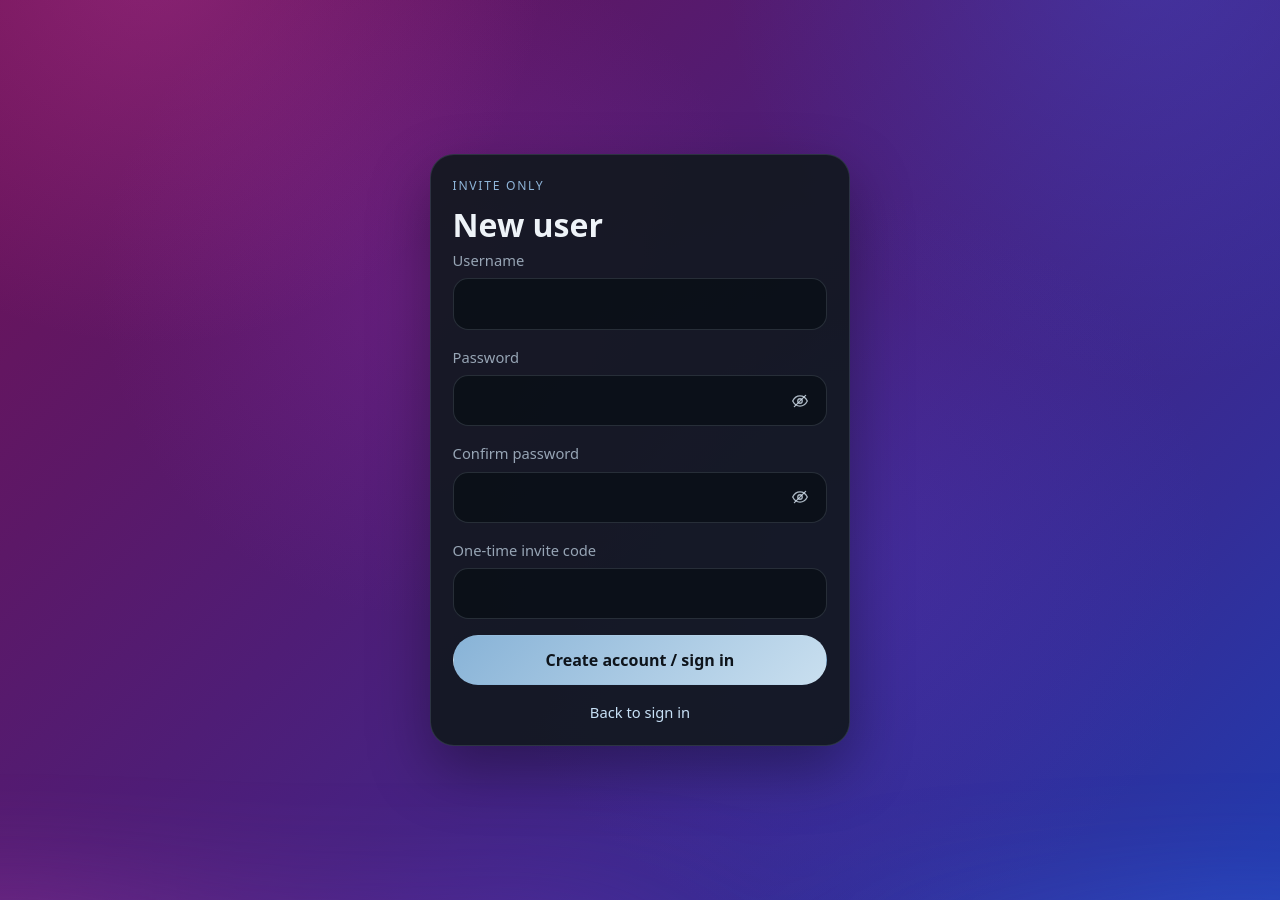
Scenario: NewUserPage invite code privacy › failed signup clears passwords but keeps the invite code in component state
In the field labelled "Username": {"x": 640, "y": 304} x1=453 y1=278 x2=827 y2=330, type "viewer"
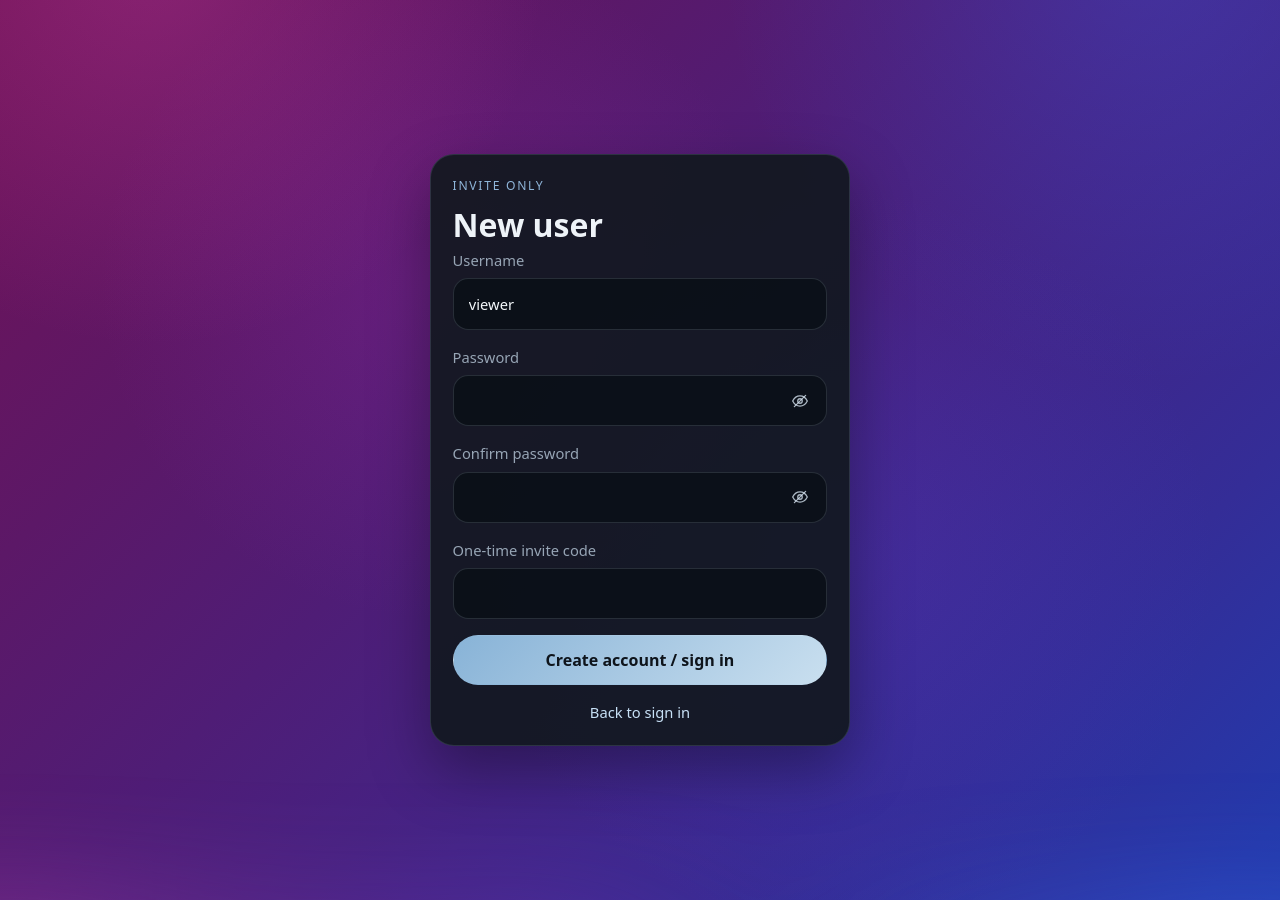
In the password field labelled "Password": {"x": 640, "y": 401} x1=453 y1=375 x2=827 y2=426, type "primary-secret"
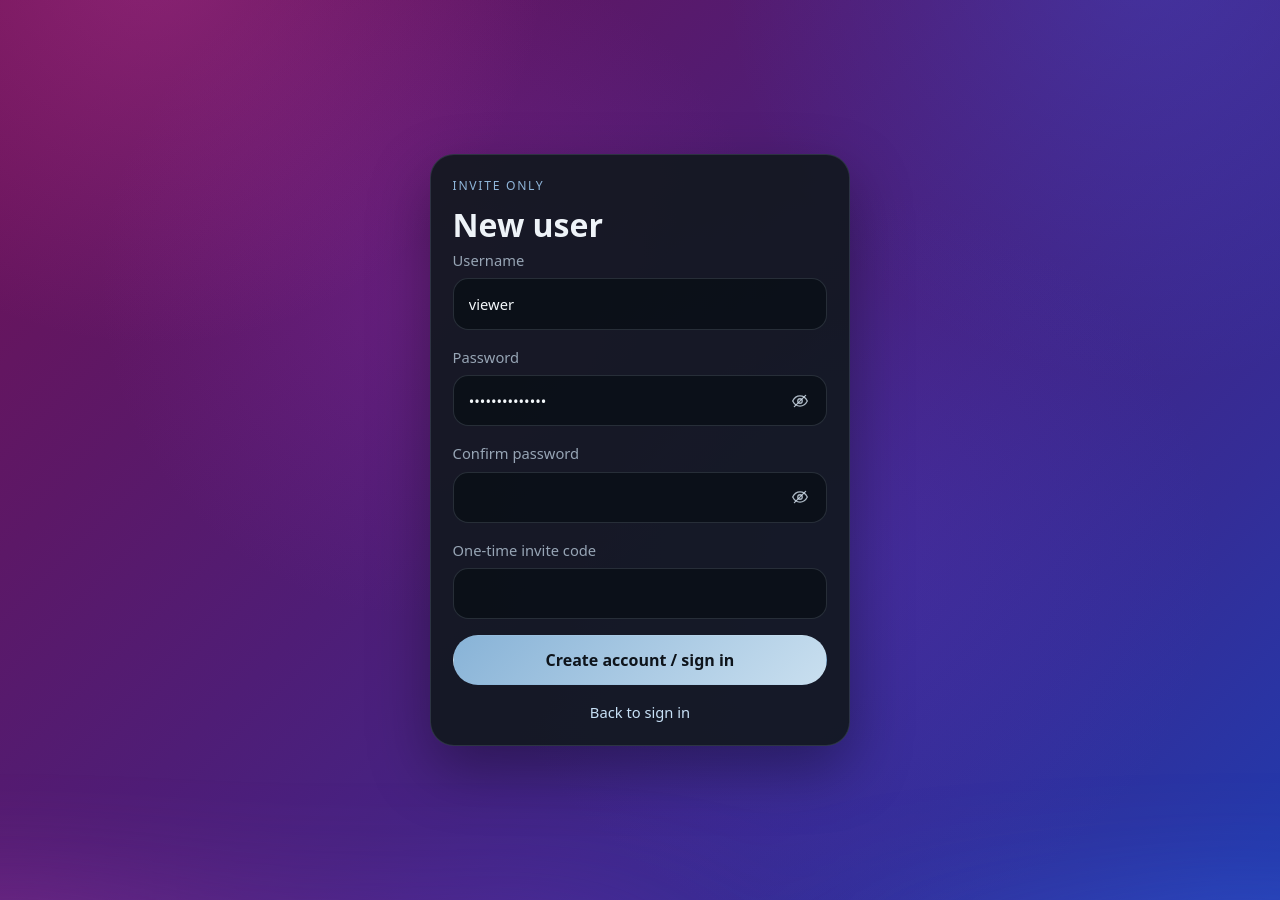
In the password field labelled "Confirm password": {"x": 640, "y": 497} x1=453 y1=472 x2=827 y2=523, type "primary-secret"
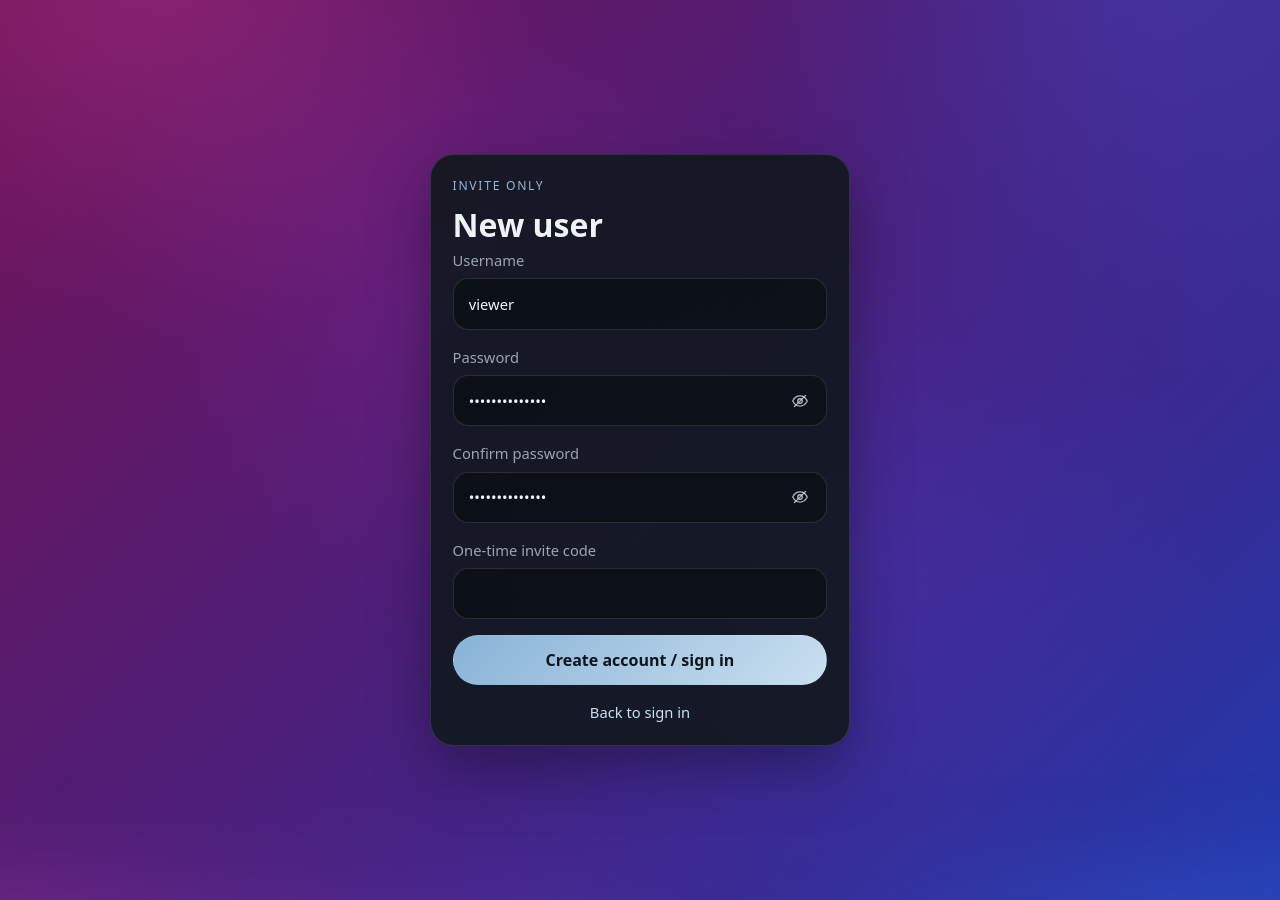
In the field labelled "One-time invite code": {"x": 640, "y": 594} x1=453 y1=568 x2=827 y2=619, type "INVITE-KEEP"
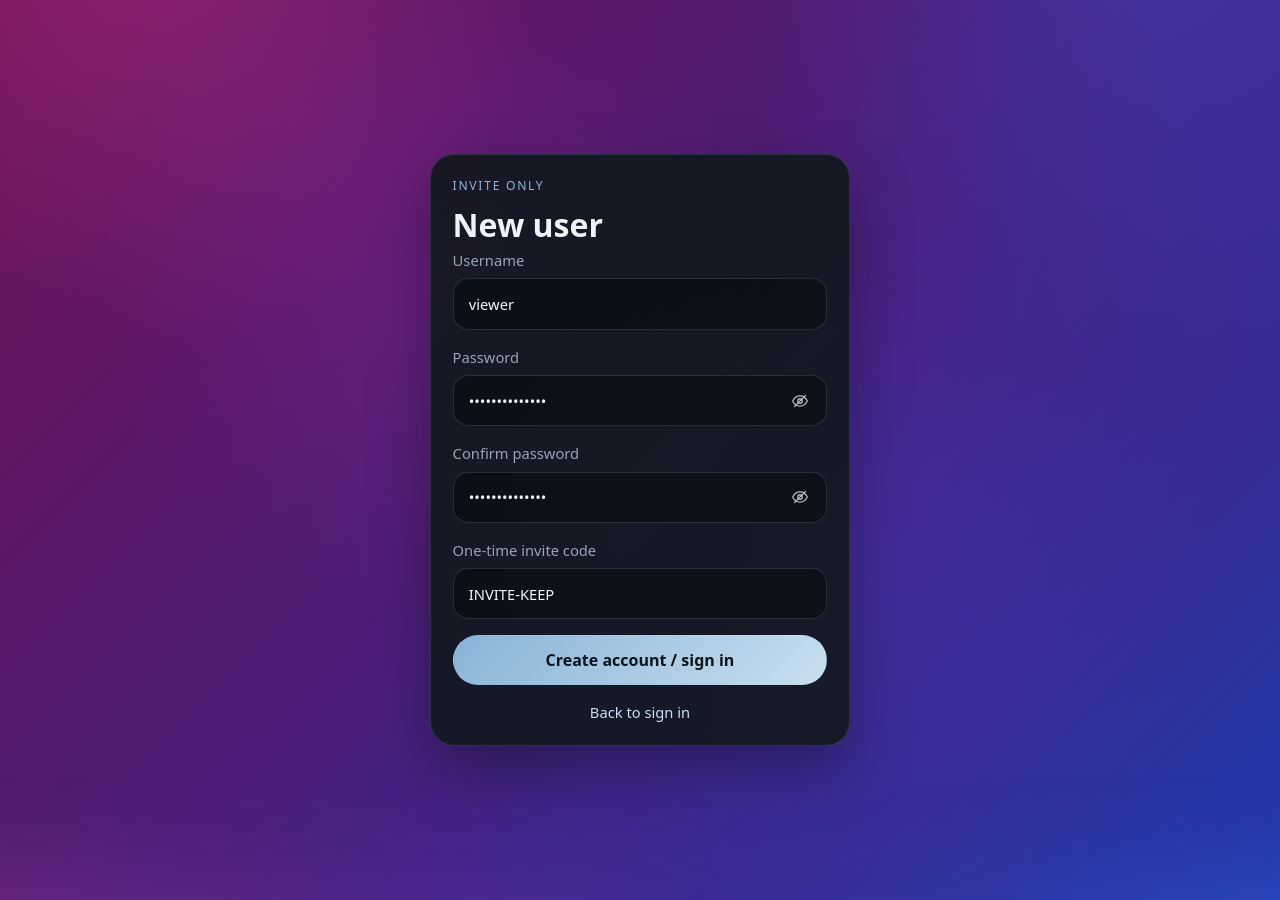
Click the button "Create account / sign in": {"x": 640, "y": 660} x1=453 y1=635 x2=827 y2=685
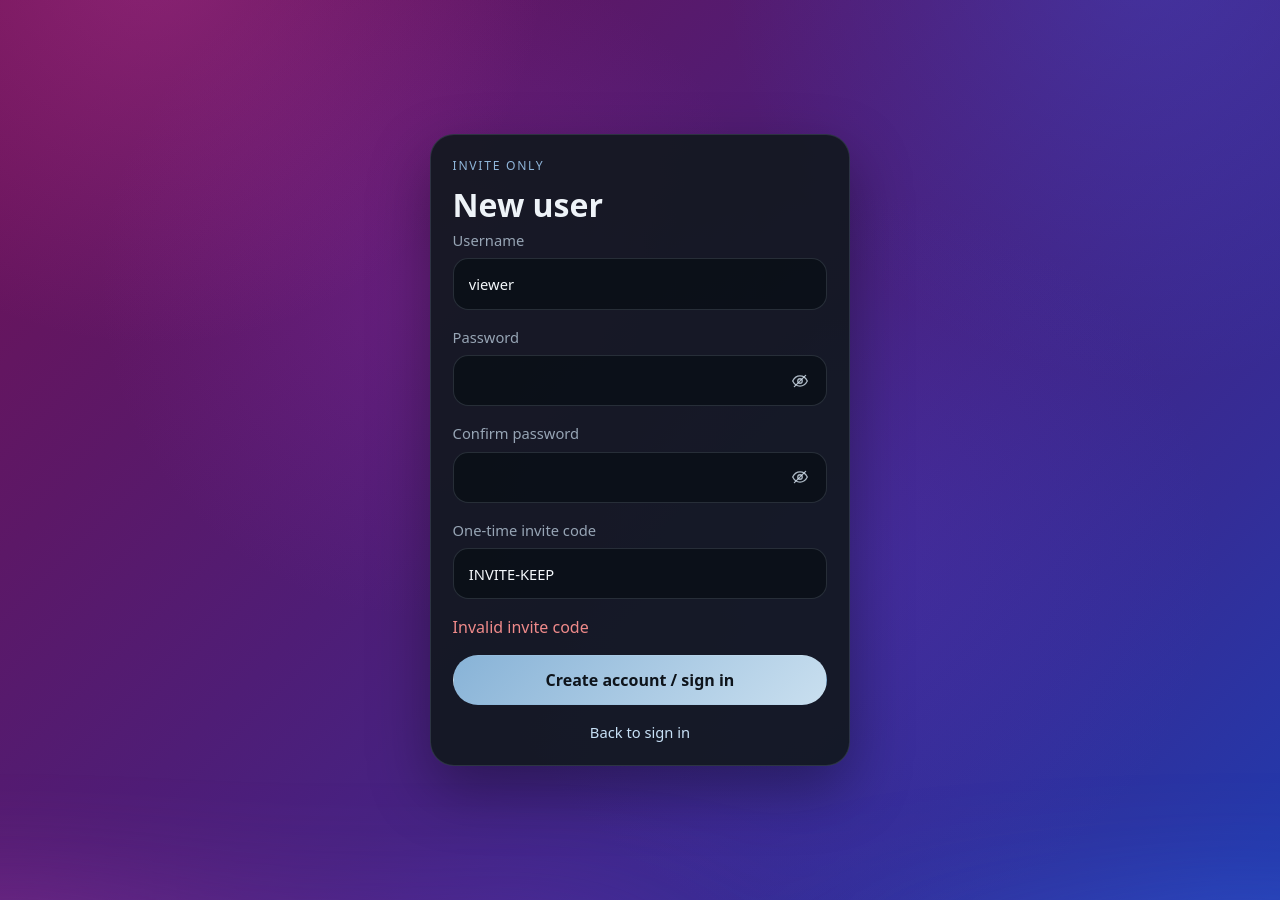
Expected: the text "Invalid invite code" is shown, x1=453 y1=616 x2=589 y2=638
Expected: the password field labelled "Password" is empty, x1=453 y1=355 x2=827 y2=406
Expected: the password field labelled "Confirm password" is empty, x1=453 y1=452 x2=827 y2=503
